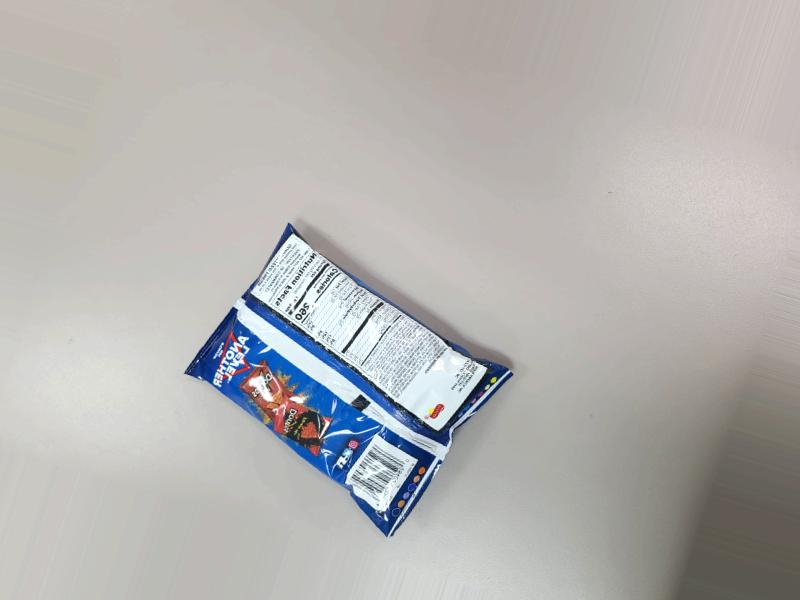doritos: (184, 187, 508, 570)
